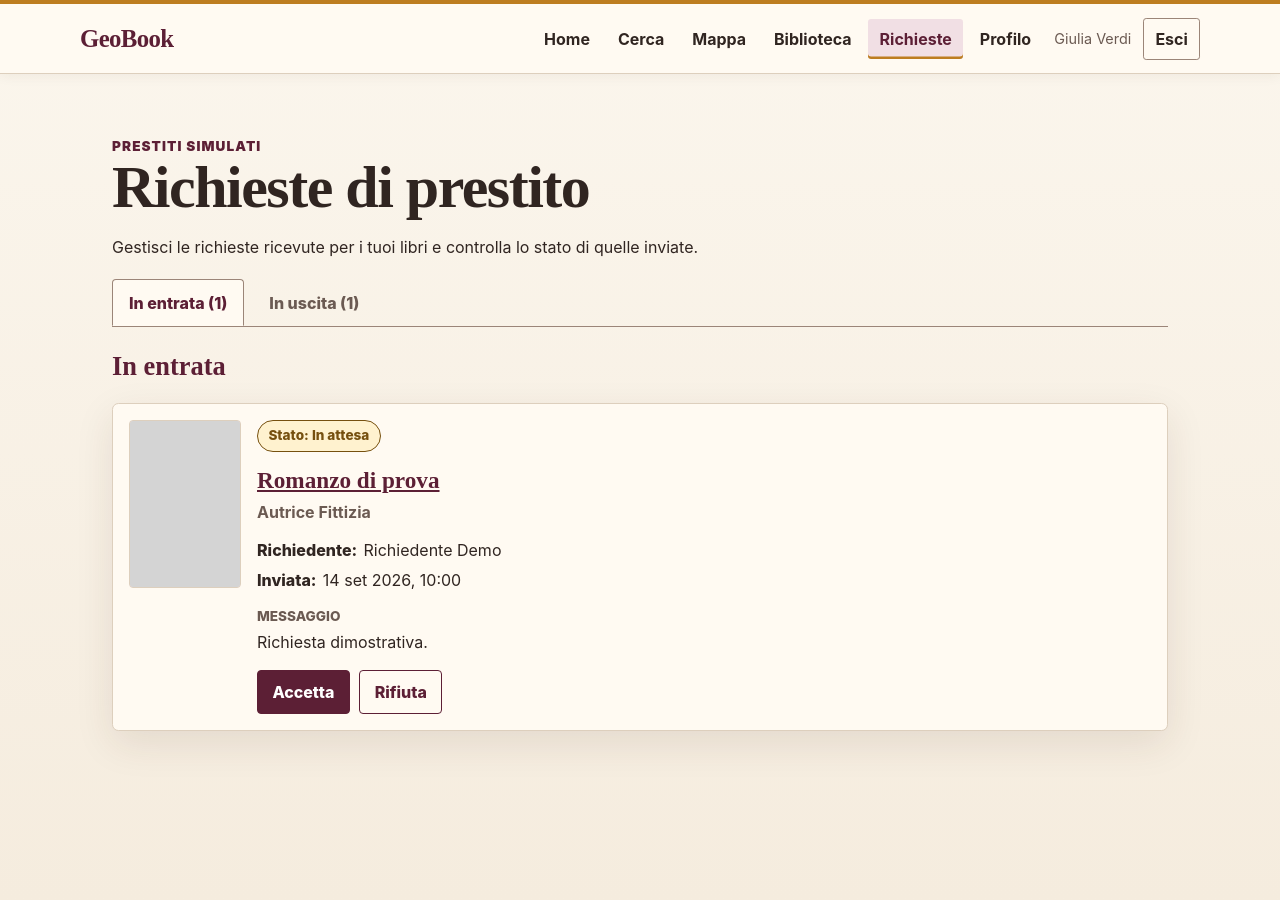
Test: loan request UI › shows only role-valid actions and updates incoming and outgoing requests
Expected: the heading "In entrata" is shown, [112, 351, 226, 381]
Expected: the button "Rifiuta" is shown, [359, 670, 442, 714]
Click the button "Accetta".
click(303, 692)  # box [257, 670, 350, 714]
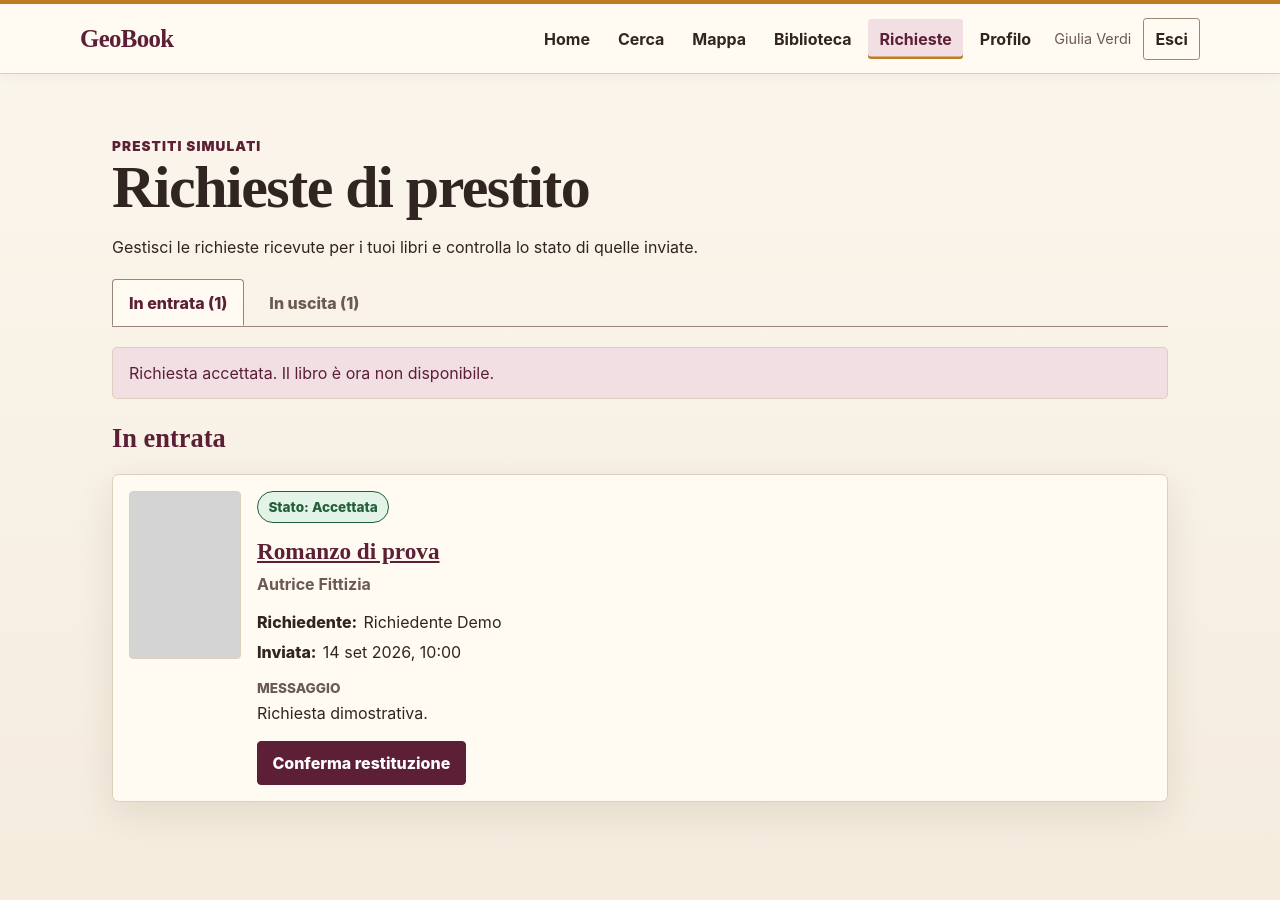
Result: the text "Stato: Accettata" is shown at [257, 491, 389, 523]
Result: the button "Conferma restituzione" is shown at [257, 742, 466, 786]
Result: the message shows "Richiesta accettata" at [129, 363, 494, 383]
Press ArrowRight in the tab "In entrata (1)", box [112, 279, 244, 326]
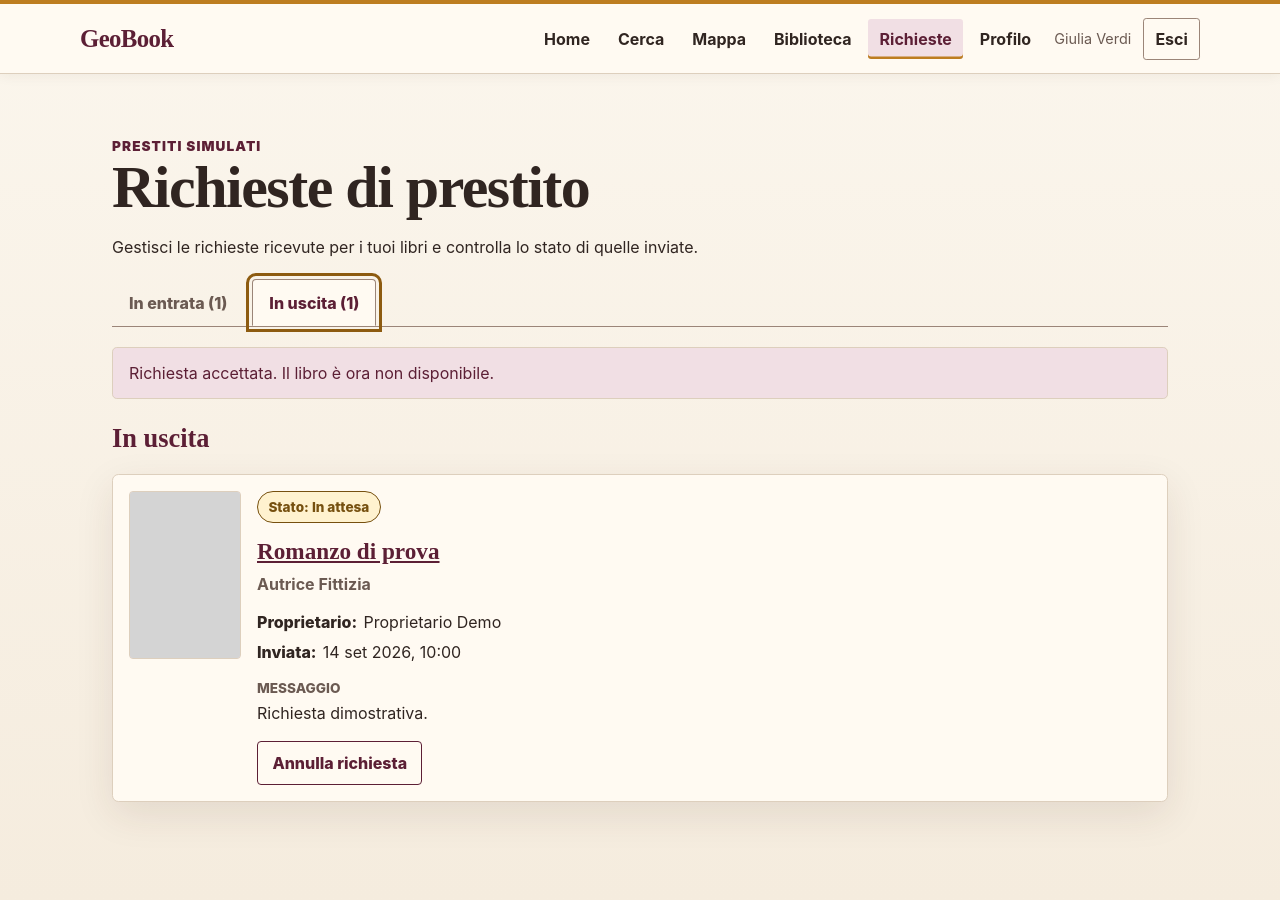
Result: the heading "In uscita" is shown at [112, 422, 210, 452]
Result: the button "Annulla richiesta" is shown
Click the button "Annulla richiesta".
click(340, 764)  # box [257, 742, 422, 786]
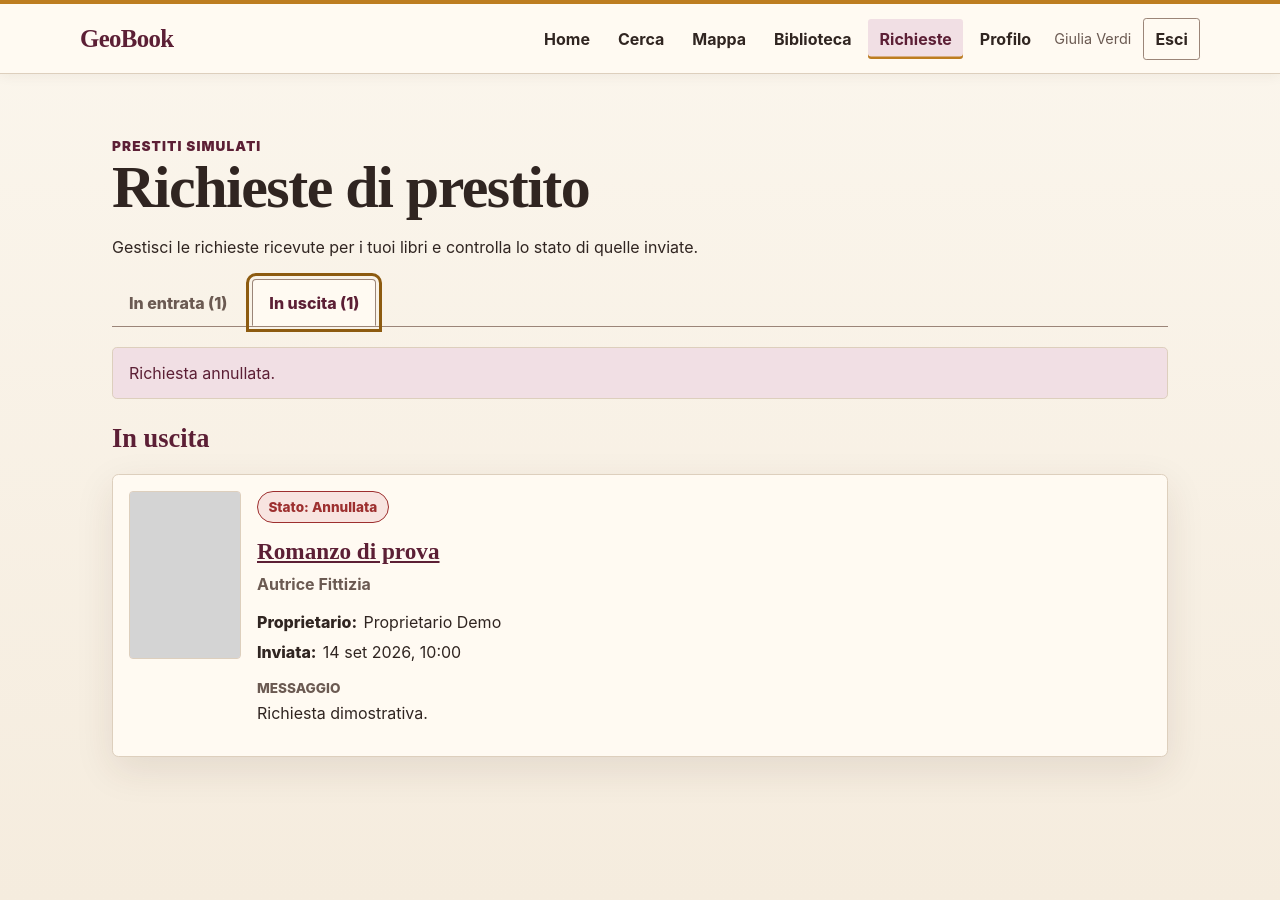
Result: the text "Stato: Annullata" is shown at [257, 491, 389, 523]
